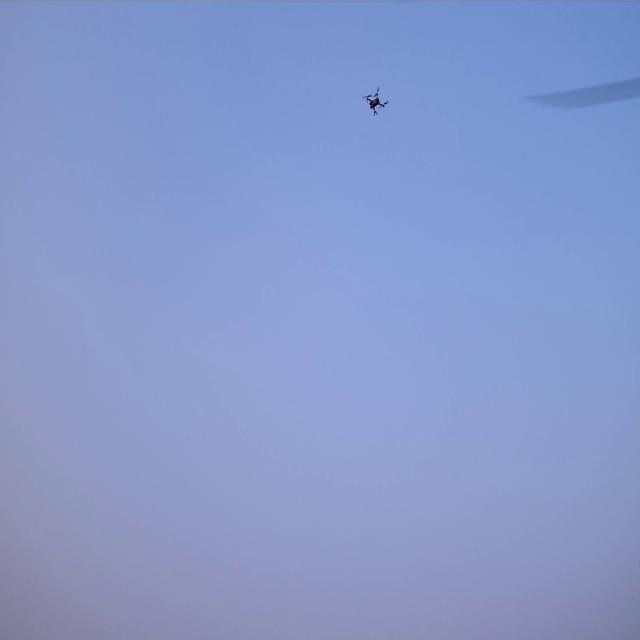UAV: (366, 92, 386, 115)
